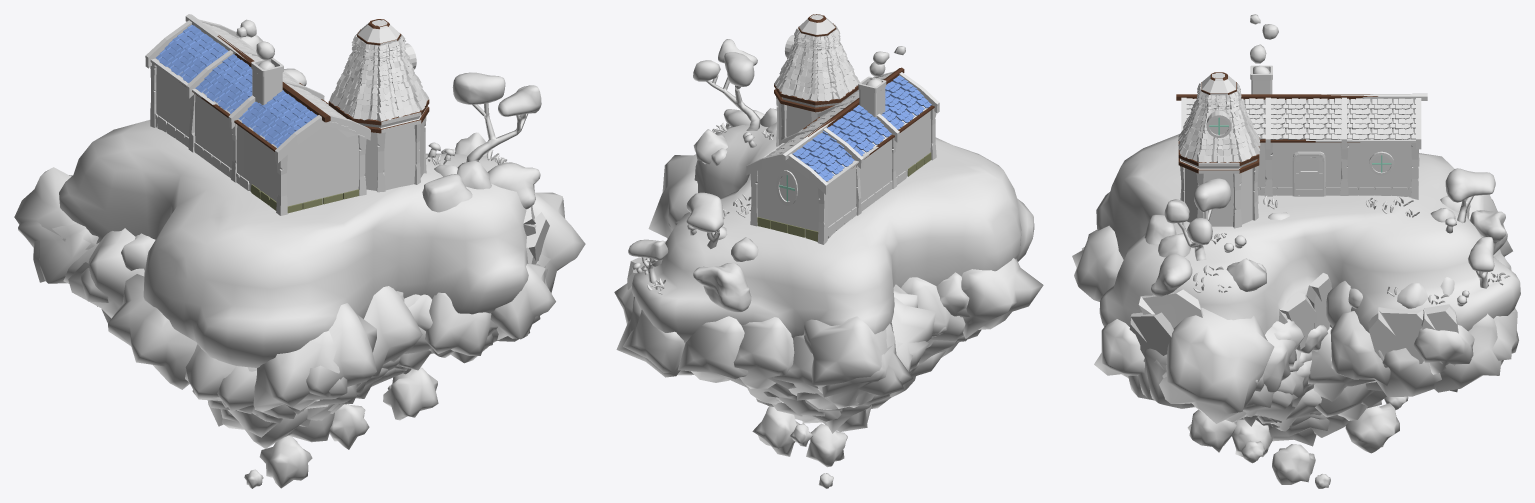
Rendered from uploads_files_2705521_Floating+House.fbx.
3 renders of one model, left to right at view 1: azimuth 30°, elevation 25°; view 2: azimuth 150°, elevation 25°; view 3: azimuth 270°, elevation 25°, orthographic. The views are drawn at different scales.
Visible parts, largest first — view 1: Ground, Rock, House, Tiles, Tiles.001, Mball.010, House.001, Rock.004, Cylinder.003, Cube, Mball.001; view 2: Ground, Rock, House, Mball.010, Tiles, Tiles.001, Rock.004, House.001, Cube, Cylinder.003, Cylinder.001, Mball.001 (+1 smaller); view 3: Rock, Ground, House, Mball.010, Tiles, Tiles.001, Rock.004, Door, Ground.001, House.001, Cube, Mball.001 (+3 smaller).
Part boxes in pixels (x1=…): Ground: x1=59, y1=120, x2=528, y2=367; Rock: x1=14, y1=167, x2=585, y2=488; House: x1=145, y1=14, x2=429, y2=215; Tiles: x1=156, y1=22, x2=364, y2=147; Tiles.001: x1=329, y1=31, x2=428, y2=121; Mball.010: x1=241, y1=35, x2=541, y2=212; House.001: x1=155, y1=114, x2=359, y2=213; Rock.004: x1=434, y1=132, x2=492, y2=189; Cylinder.003: x1=251, y1=58, x2=283, y2=105; Cube: x1=466, y1=103, x2=528, y2=162; Mball.001: x1=236, y1=19, x2=274, y2=73; Ground: x1=631, y1=124, x2=1034, y2=343; Rock: x1=614, y1=154, x2=1043, y2=488; House: x1=746, y1=14, x2=939, y2=244; Mball.010: x1=628, y1=39, x2=764, y2=312; Tiles: x1=766, y1=73, x2=931, y2=181; Tiles.001: x1=774, y1=24, x2=859, y2=101; Rock.004: x1=653, y1=108, x2=776, y2=266; House.001: x1=757, y1=152, x2=931, y2=241; Cube: x1=641, y1=75, x2=760, y2=283; Cylinder.003: x1=858, y1=76, x2=886, y2=117; Cylinder.001: x1=776, y1=170, x2=797, y2=205; Mball.001: x1=866, y1=46, x2=905, y2=90; Rock: x1=1072, y1=194, x2=1518, y2=488; Ground: x1=1096, y1=134, x2=1520, y2=334; House: x1=1176, y1=72, x2=1427, y2=228; Mball.010: x1=1144, y1=168, x2=1507, y2=296; Tiles: x1=1186, y1=98, x2=1415, y2=139; Tiles.001: x1=1178, y1=83, x2=1260, y2=162; Rock.004: x1=1158, y1=196, x2=1467, y2=327; Door: x1=1292, y1=151, x2=1325, y2=196; Ground.001: x1=1193, y1=195, x2=1510, y2=304; House.001: x1=1257, y1=187, x2=1411, y2=197; Cube: x1=1177, y1=196, x2=1488, y2=288; Mball.001: x1=1250, y1=14, x2=1278, y2=73.
Size of the model in its own units: 1076 by 1178 by 1061.
